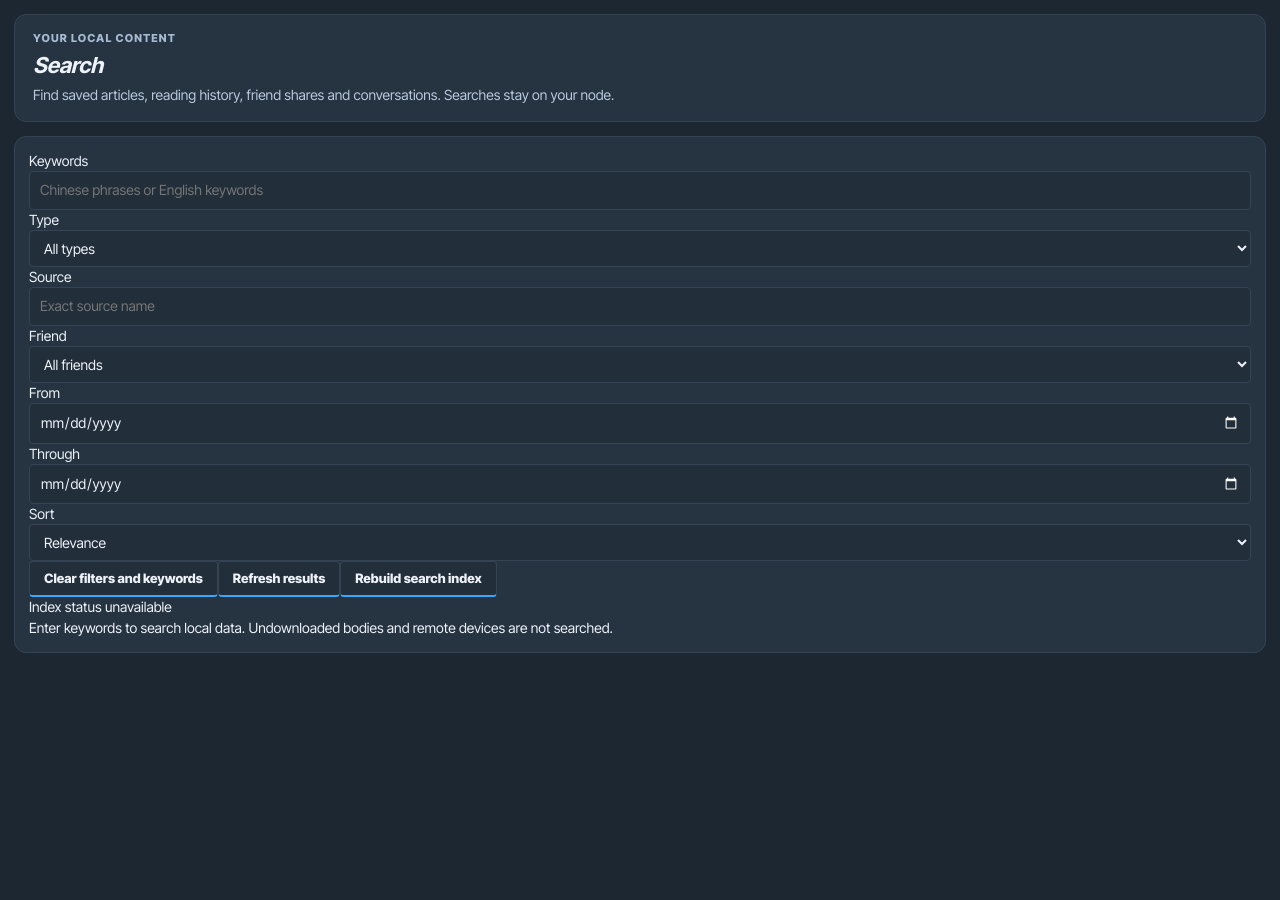
Test: keeps the previously loaded page and shows an inline error when pagination reports a changed result set
Type "record" into the field named "Search keywords" at [640, 191], box [29, 171, 1251, 210]
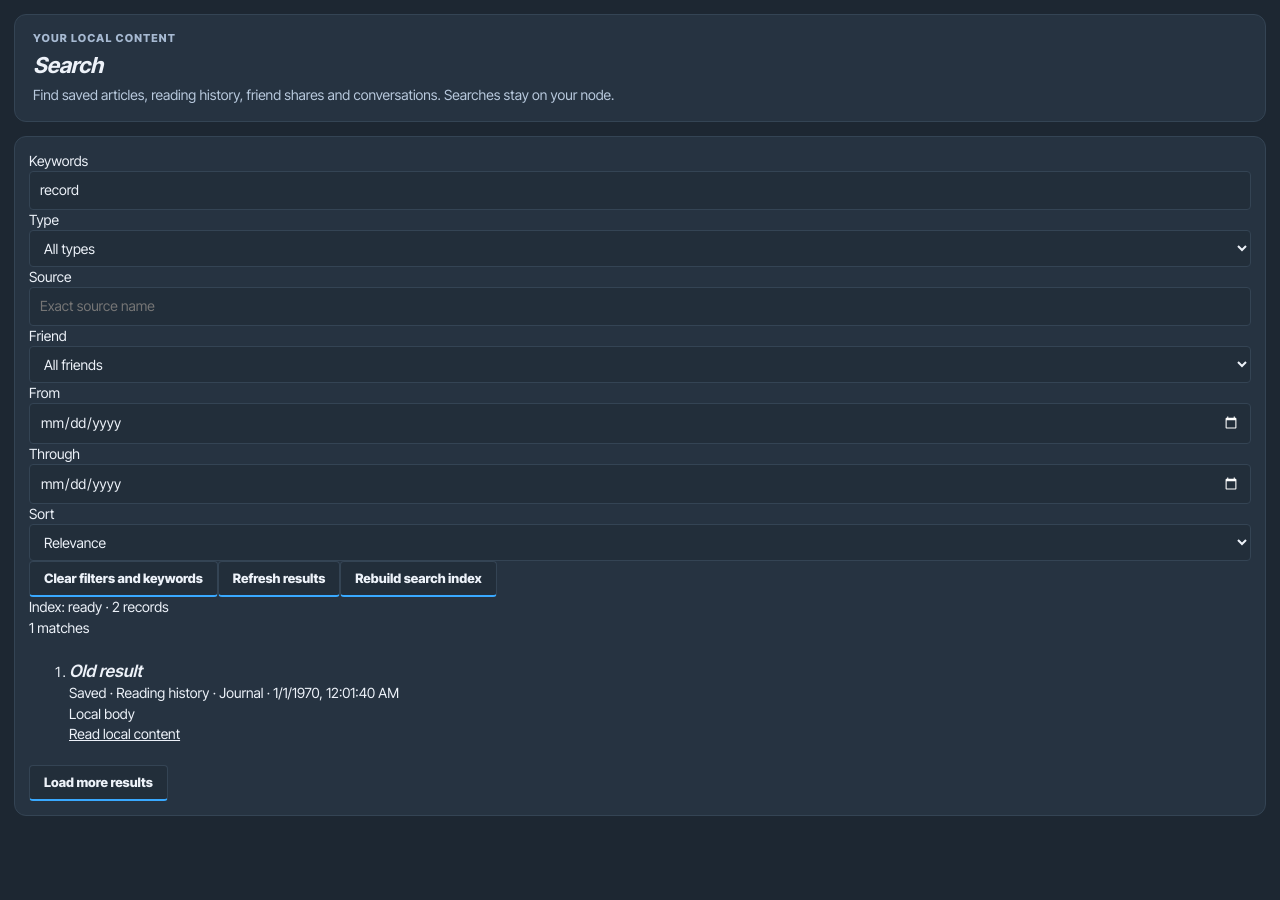
Click the button "Load more results" at [98, 783], box [29, 765, 168, 801]
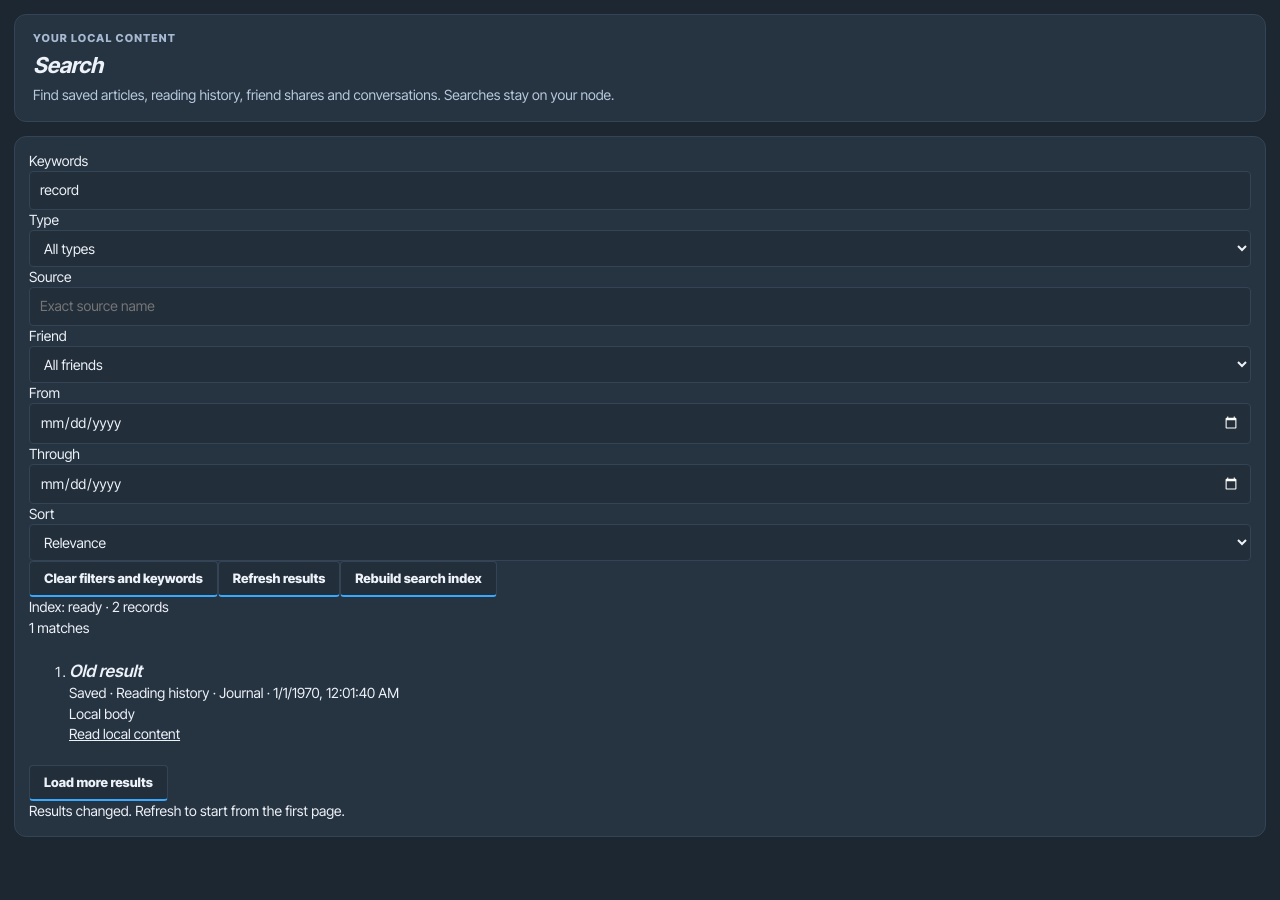
Expected: the heading "Old result" is shown, [69, 661, 142, 681]
Expected: the message "Results changed. Refresh to start from the first page." is shown, [29, 802, 345, 819]
Click the button "Refresh results" at [279, 579], box [218, 561, 340, 597]
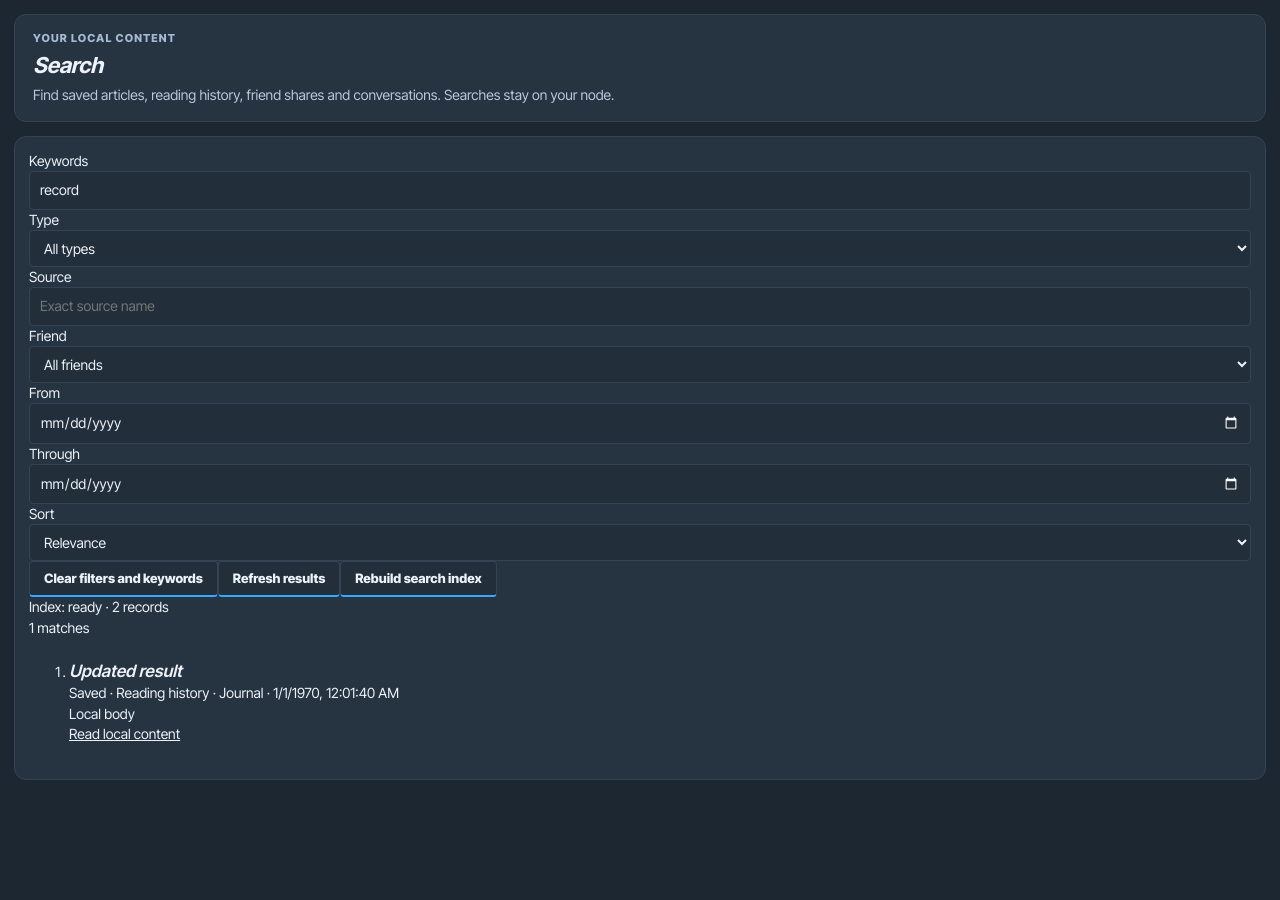
Expected: the heading "Updated result" is shown, [69, 661, 182, 681]
